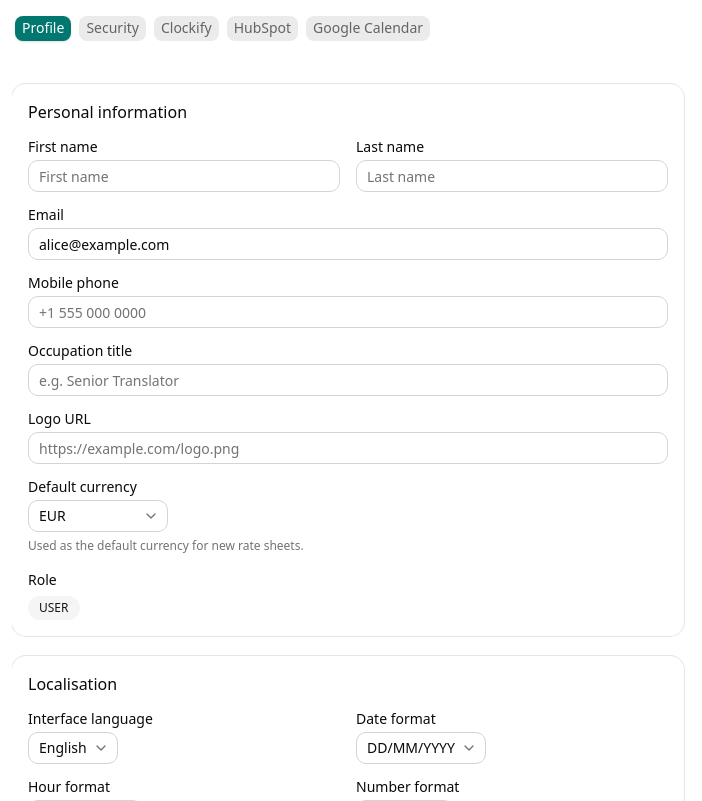
Test: EditProfileTabs › switches to the Security tab
This screenshot has width=702, height=801.
Focus the tab "Security": (113, 28) [79,16,146,40]
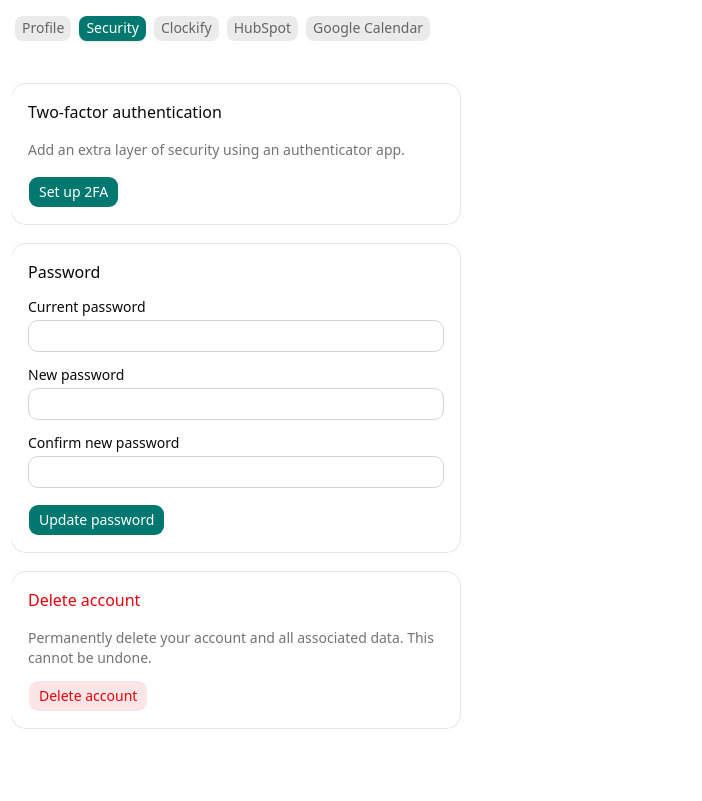
expect the text "Two-factor authentication" is shown: met, box [28,101,222,123]
expect the label labelled "First name" is gone: met
